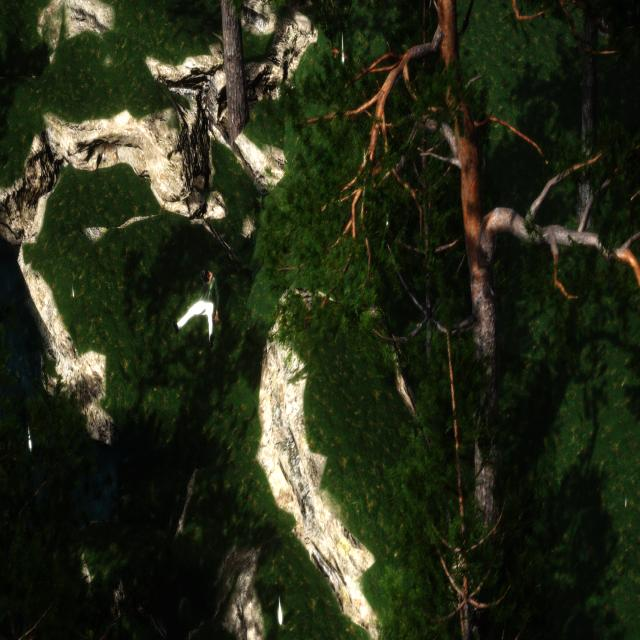Human: (170, 265, 220, 350)
